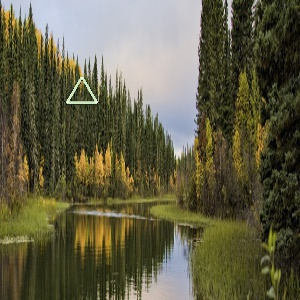triangle: (62, 74, 100, 108)
